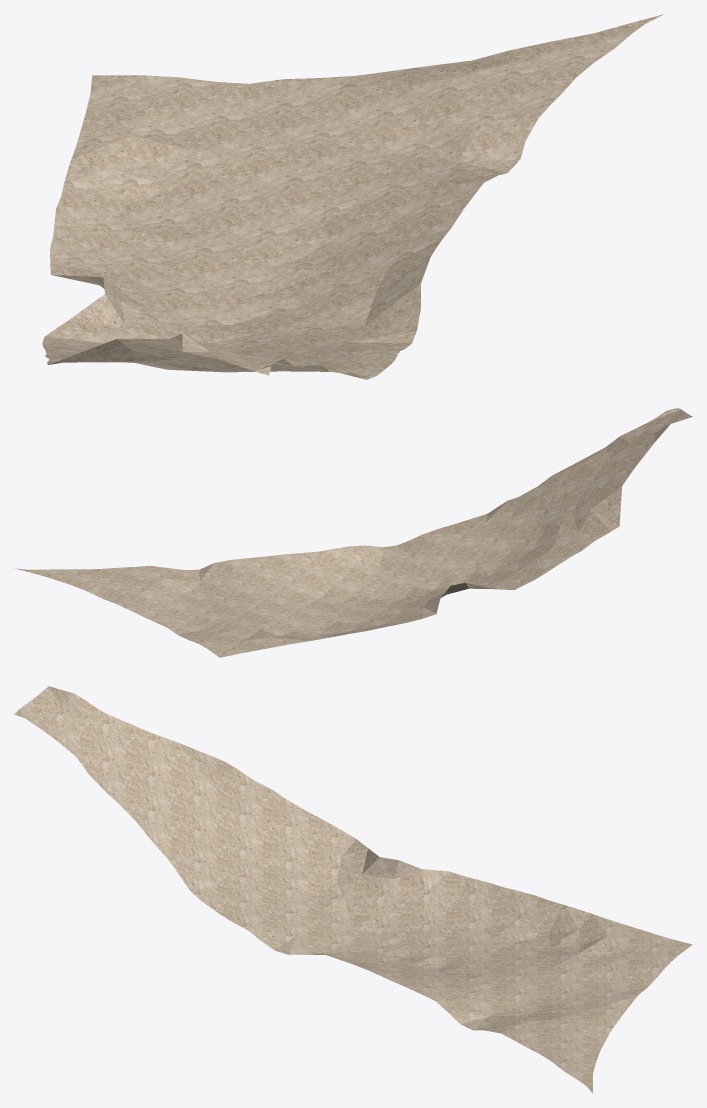
File: c_carisle_mid_seabed_02.fbx
The picture shows the model from 3 angles, top to bottom: view 1: azimuth 30°, elevation 25°; view 2: azimuth 150°, elevation 25°; view 3: azimuth 270°, elevation 25°; orthographic projection. The views are drawn at different scales.
Parts seen in each view (by area): view 1: c_carisle_mid_seabed_02; view 2: c_carisle_mid_seabed_02; view 3: c_carisle_mid_seabed_02.
Part boxes in pixels (left/top/right/bottom): c_carisle_mid_seabed_02: left=42, top=14, right=663, bottom=379; c_carisle_mid_seabed_02: left=14, top=408, right=692, bottom=657; c_carisle_mid_seabed_02: left=14, top=686, right=692, bottom=1093.
Bounding box in the file's own units: 52.71 × 54.21 × 13.39.
